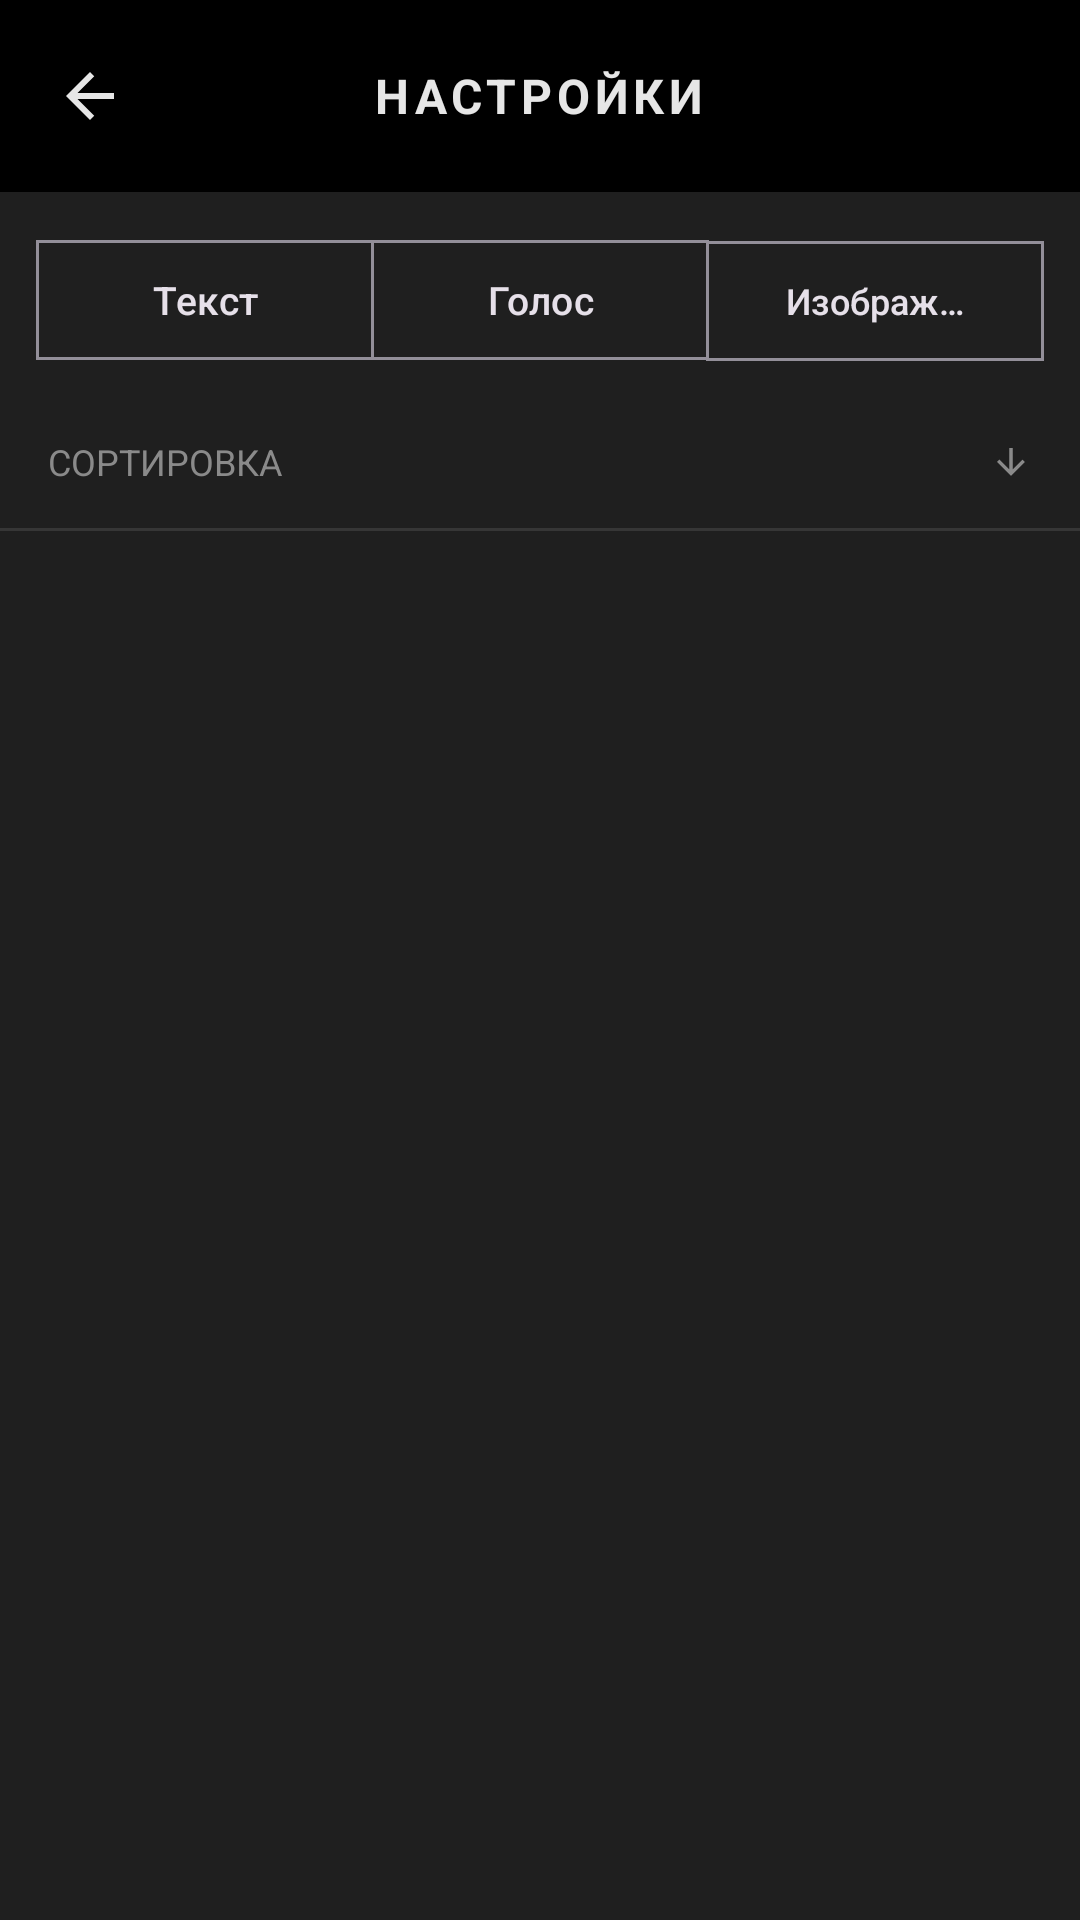

Locate icon controls on the screen. Image size 1080×1920, boxes as (x1, y1, x2, y2).
Назад: (66, 72, 114, 120)
